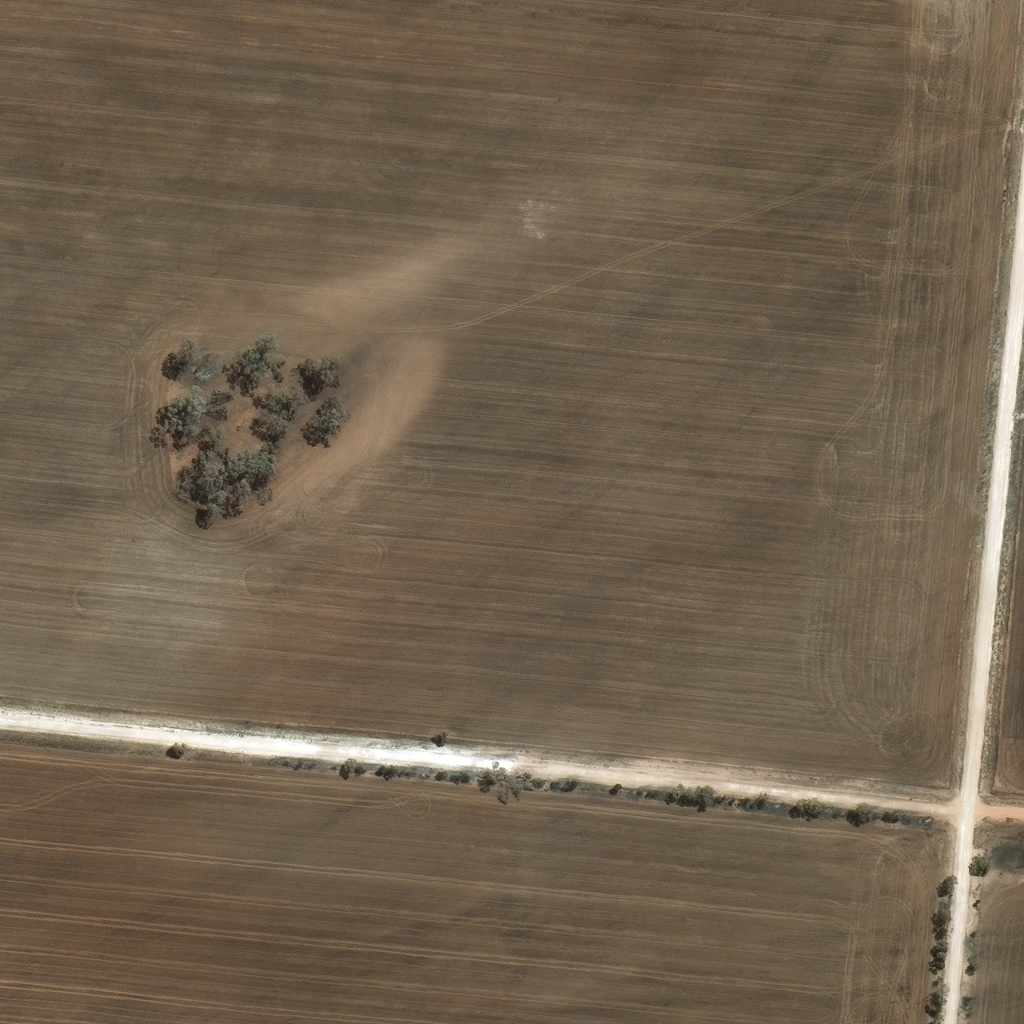4 un-classified: (911, 367, 922, 379)
